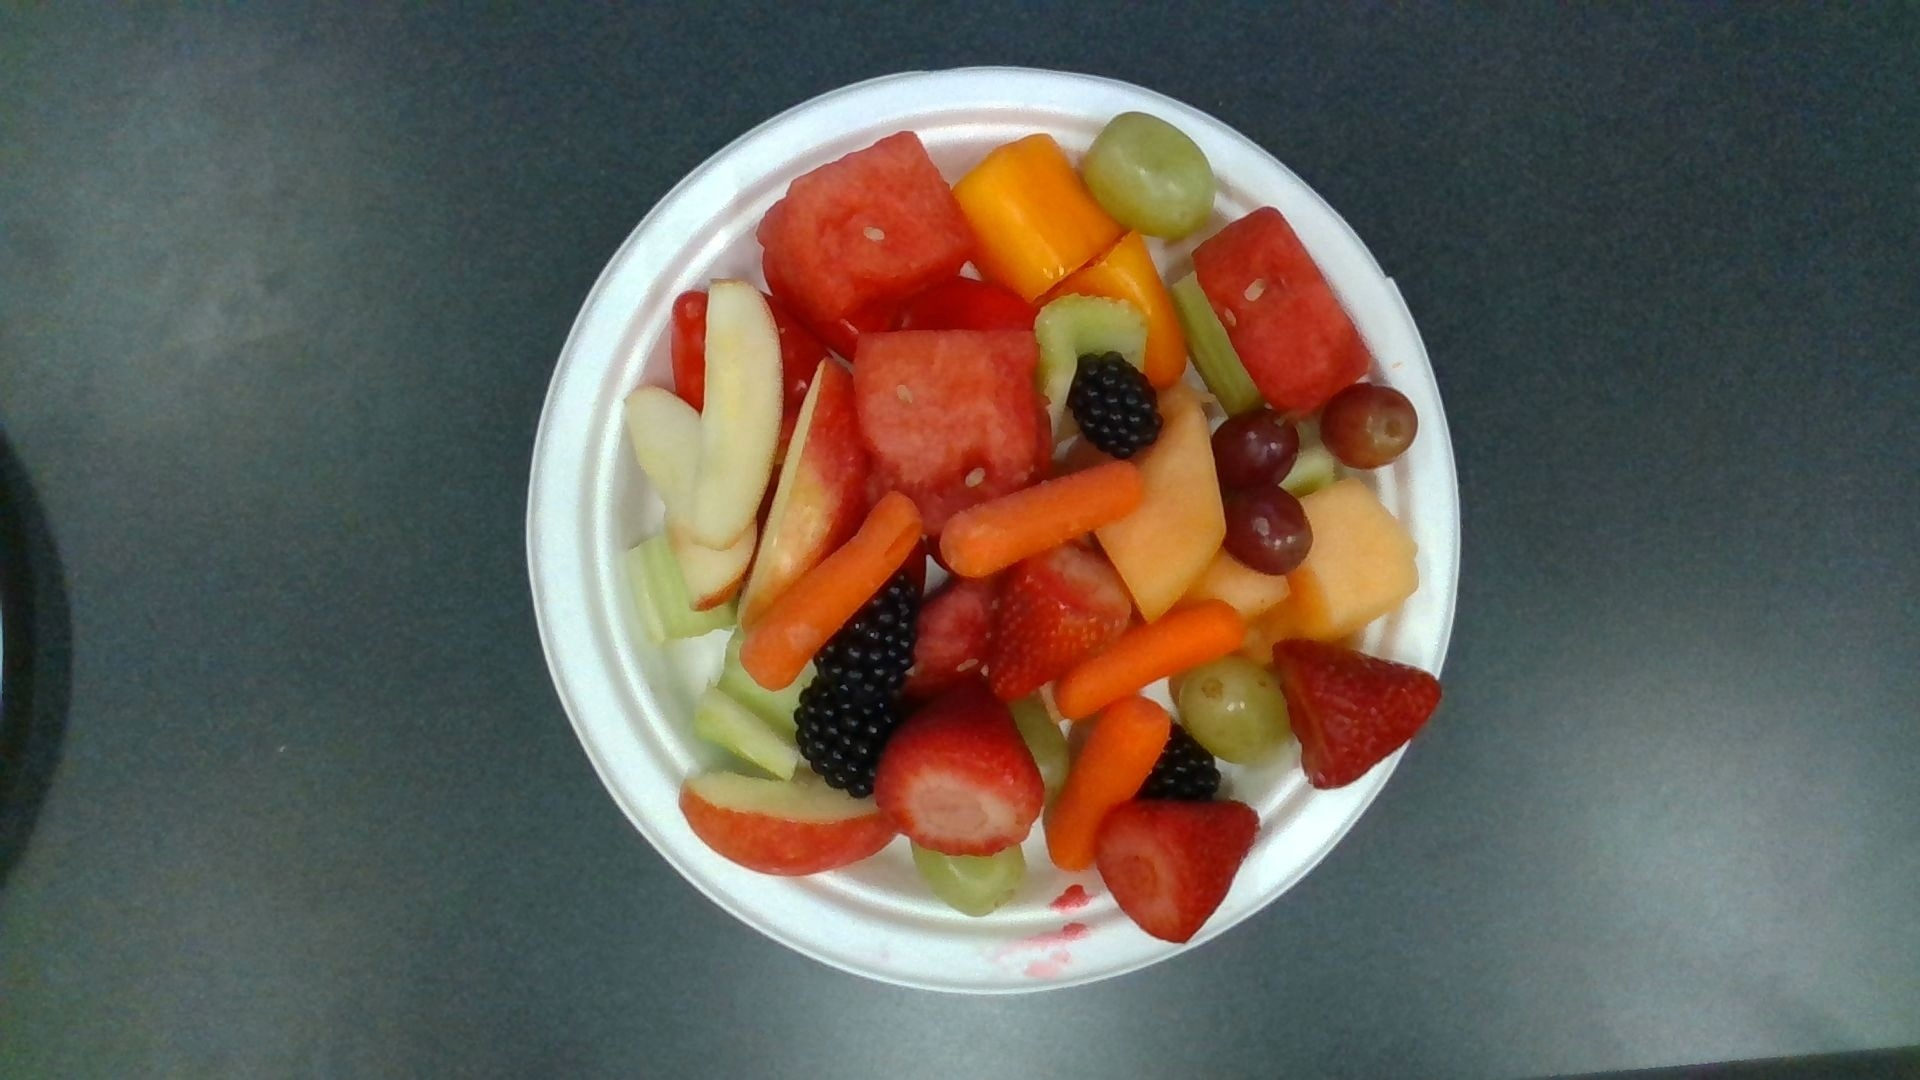apple: (740, 355, 864, 625), (694, 281, 785, 549), (680, 773, 899, 873)
bell_pepper: (953, 136, 1117, 301)
blackberry: (796, 676, 909, 795), (1069, 353, 1162, 454)
cantalope: (1097, 400, 1229, 620), (1287, 476, 1419, 640)
carrot: (740, 491, 924, 691), (939, 462, 1145, 576), (1058, 601, 1247, 723), (1048, 700, 1174, 866)
grape_green: (1084, 113, 1217, 243), (1178, 658, 1294, 761)
grape_purple: (1320, 388, 1419, 465), (1226, 485, 1309, 571)
melon: (852, 326, 1054, 530), (762, 133, 971, 315), (1193, 210, 1371, 413)
strawberry: (877, 686, 1044, 856), (1275, 640, 1443, 789), (1092, 798, 1259, 943), (989, 551, 1134, 698)
